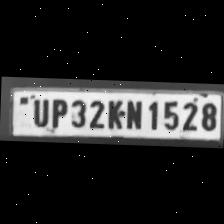1: (142, 97, 160, 130)
2: (178, 98, 198, 132), (85, 96, 105, 129)
3: (66, 95, 86, 128)
5: (158, 97, 180, 131)
8: (198, 99, 216, 132)
K: (104, 96, 124, 130)
N: (122, 96, 144, 130)
P: (47, 94, 67, 128)
U: (28, 96, 50, 128)
